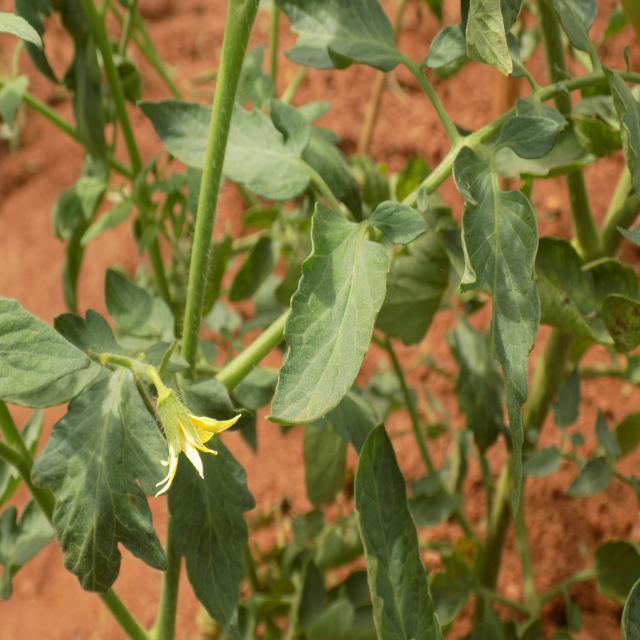tomato_healthy: (34, 361, 165, 595), (273, 205, 390, 432), (460, 150, 540, 450), (355, 425, 447, 640), (171, 427, 256, 623)
